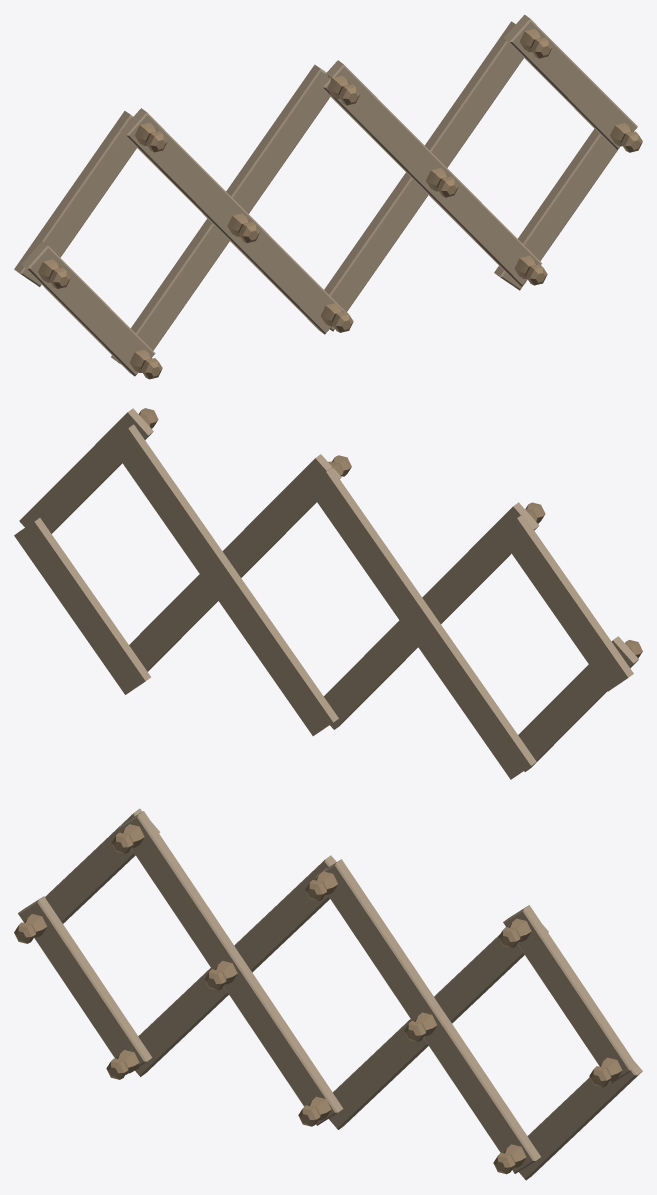
Rendered from M_WallHanger.FBX.
The picture shows the model from 3 angles, top to bottom: view 1: azimuth 30°, elevation 25°; view 2: azimuth 150°, elevation 25°; view 3: azimuth 330°, elevation 25°; orthographic projection.
Parts seen in each view (by area): view 1: Box035; view 2: Box035; view 3: Box035.
Boxes of the visible parts, x1=… form: Box035: x1=14, y1=14, x2=642, y2=379; Box035: x1=14, y1=408, x2=642, y2=779; Box035: x1=14, y1=808, x2=642, y2=1180.
Size of the model in its own units: 152 by 12.35 by 65.23.
